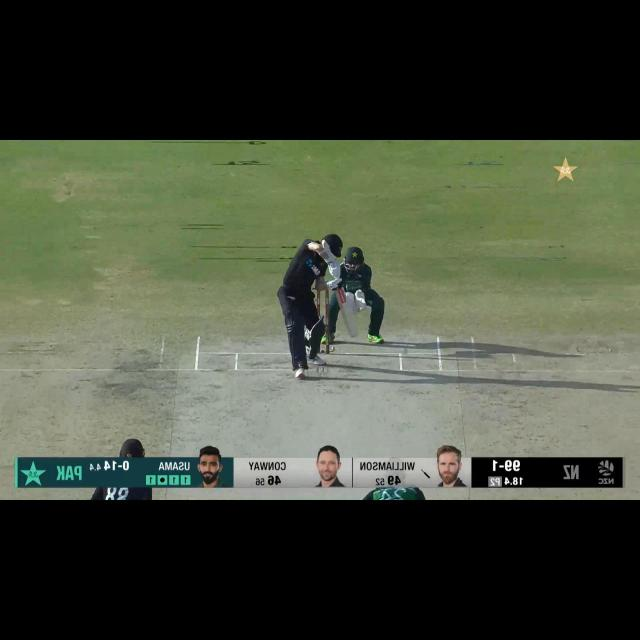bat: (336, 286, 363, 338)
toe: (345, 320, 361, 338)
